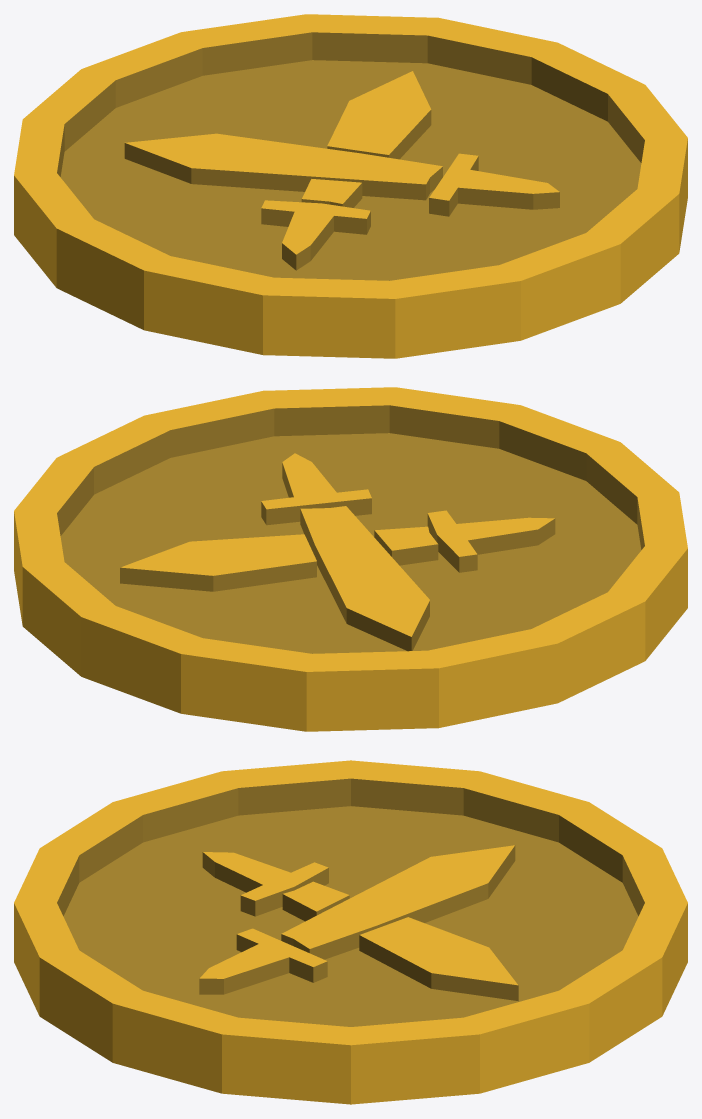
The model's file is Coin_Cross_Swords.fbx.
3 renders of one model, top to bottom at view 1: azimuth 30°, elevation 25°; view 2: azimuth 150°, elevation 25°; view 3: azimuth 270°, elevation 25°, orthographic.
Visible parts, largest first — view 1: Coin_CrossSwords; view 2: Coin_CrossSwords; view 3: Coin_CrossSwords.
Boxes of the visible parts, x1,y1,x2,y2 form: Coin_CrossSwords: [14, 14, 687, 358]; Coin_CrossSwords: [14, 387, 687, 731]; Coin_CrossSwords: [14, 760, 687, 1104].
Size of the model in its own units: 20 by 20 by 1.94.
